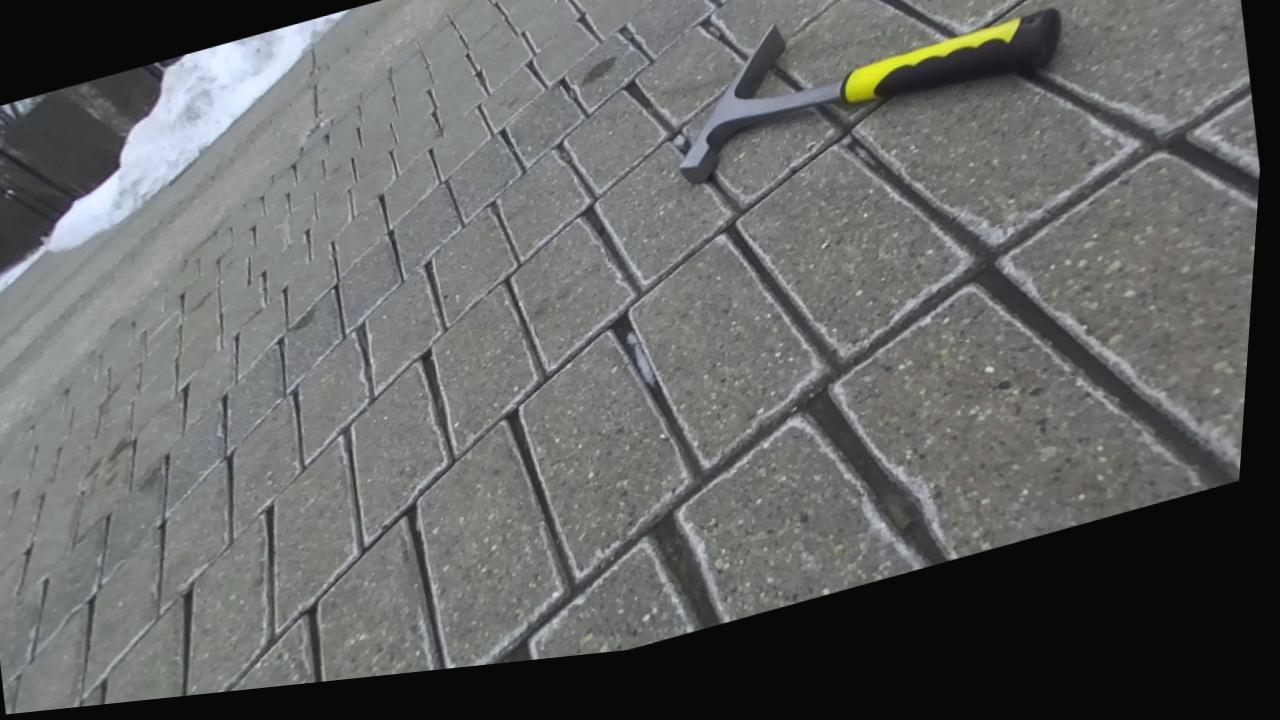pick: (679, 8, 1060, 182)
